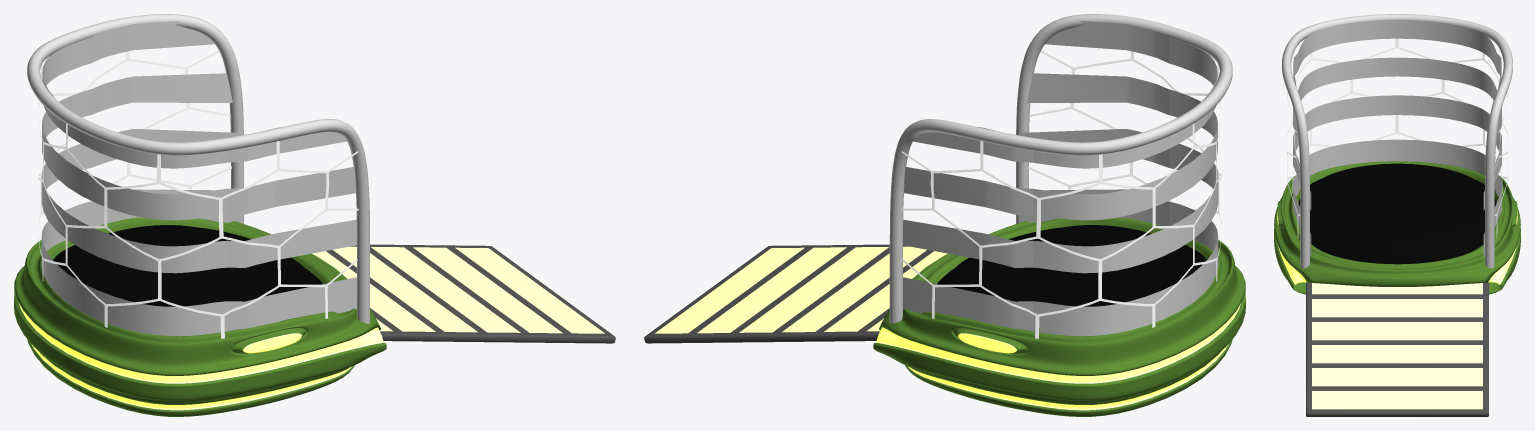
3 renders of one model, left to right at view 1: azimuth 30°, elevation 25°; view 2: azimuth 150°, elevation 25°; view 3: azimuth 270°, elevation 25°, orthographic. The views are drawn at different scales.
Visible parts, largest first — view 1: Cube.006, Cube.003, Plane.003, Cube.002_Curve.001, Cube.005; view 2: Cube.006, Cube.003, Plane.003, Cube.002_Curve.001, Cube.005; view 3: Cube.003, Plane.003, Cube.006, Cube.002_Curve.001, Cube.005.
Boxes of the visible parts, <box> form: Cube.006: <box>41,20,356,336</box>; Cube.003: <box>14,217,386,416</box>; Plane.003: <box>312,244,615,343</box>; Cube.002_Curve.001: <box>27,14,369,323</box>; Cube.005: <box>38,50,358,338</box>; Cube.006: <box>903,20,1218,336</box>; Cube.003: <box>873,217,1245,416</box>; Plane.003: <box>644,244,947,343</box>; Cube.002_Curve.001: <box>889,14,1232,323</box>; Cube.005: <box>901,50,1221,338</box>; Cube.003: <box>1274,161,1520,294</box>; Plane.003: <box>1306,282,1488,416</box>; Cube.006: <box>1293,19,1501,257</box>; Cube.002_Curve.001: <box>1282,14,1512,268</box>; Cube.005: <box>1287,38,1508,238</box>.
Bounding box in the file's own units: 3.79 × 2.22 × 2.18.
Materials: 6 (1 with a texture image).
